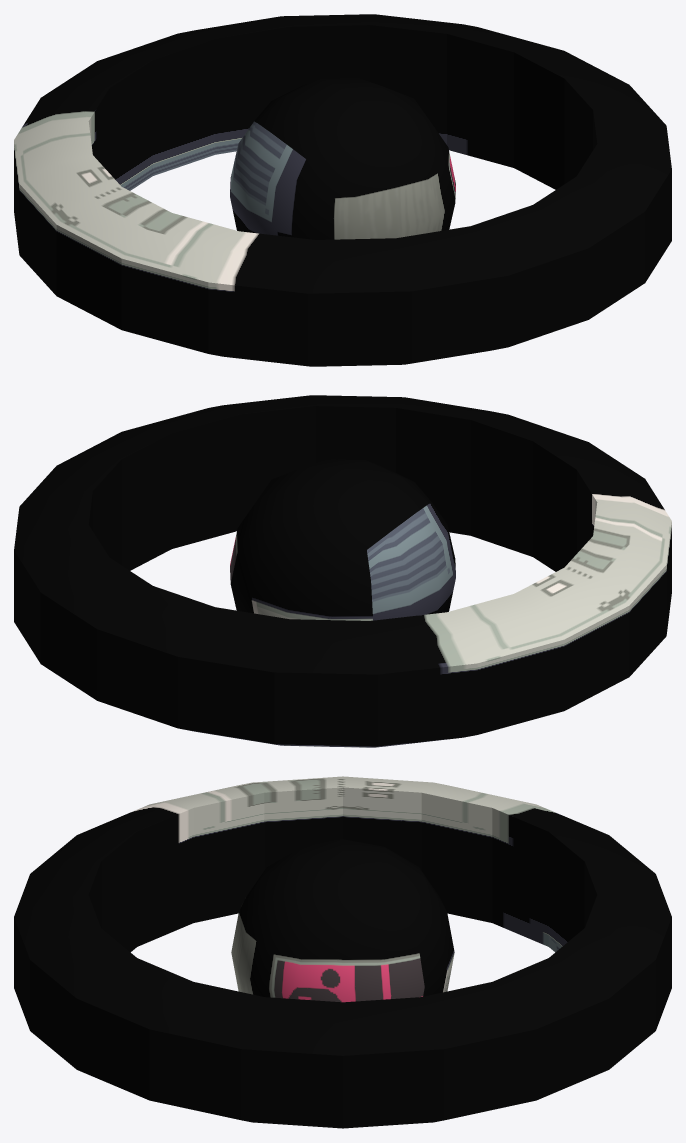
The model's file is rotationTest.fbx.
3 renders of one model, top to bottom at view 1: azimuth 30°, elevation 25°; view 2: azimuth 150°, elevation 25°; view 3: azimuth 270°, elevation 25°, orthographic.
Visible parts, largest first — view 1: rotationTest; view 2: rotationTest; view 3: rotationTest.
Boxes of the visible parts, x1,y1,x2,y2 form: rotationTest: (14,14,671,366); rotationTest: (14,395,671,747); rotationTest: (14,776,671,1128).
Size of the model in its own units: 259 by 87.85 by 259.
